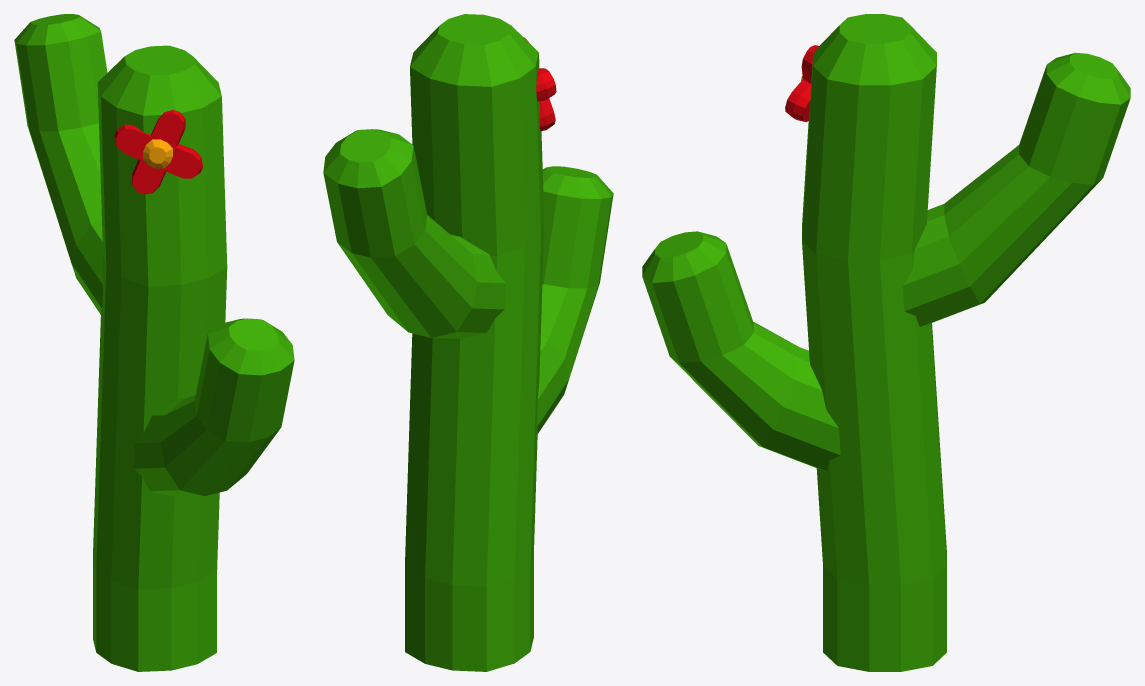
Rendered from Cactus 3.fbx.
3 views of the same model, side by side, from view 1: azimuth 30°, elevation 25°; view 2: azimuth 150°, elevation 25°; view 3: azimuth 270°, elevation 25° (orthographic). The views are drawn at different scales.
Parts seen in each view (by area): view 1: Cube.045, Cube.054, Cube.053; view 2: Cube.045, Cube.054; view 3: Cube.045, Cube.054.
Part boxes in pixels (x1,y1,x2,y2): Cube.045: [14, 14, 294, 671]; Cube.054: [114, 110, 202, 194]; Cube.053: [143, 139, 172, 168]; Cube.045: [323, 14, 613, 671]; Cube.054: [524, 37, 556, 130]; Cube.045: [642, 14, 1130, 671]; Cube.054: [785, 45, 818, 122].
Bounding box in the file's own units: 142 × 709 × 509.
